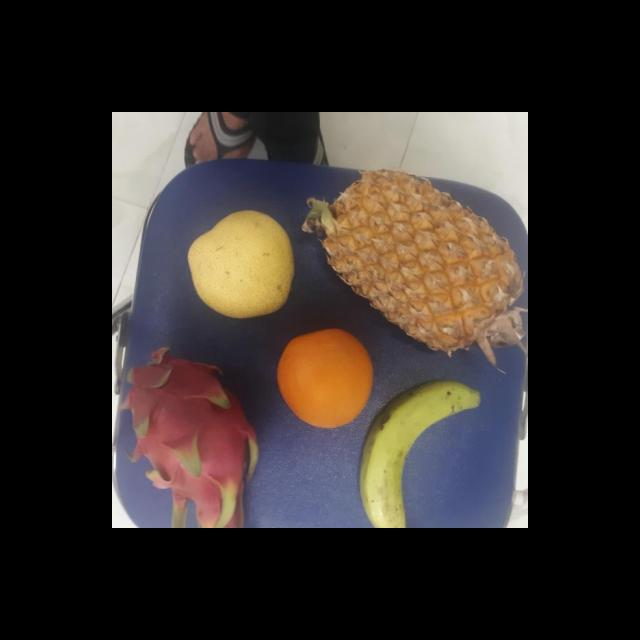banana: (361, 378, 474, 528)
orange: (276, 328, 376, 431)
pear: (186, 210, 301, 318)
pineapple: (325, 172, 528, 350)
pitaya: (113, 346, 261, 527)
